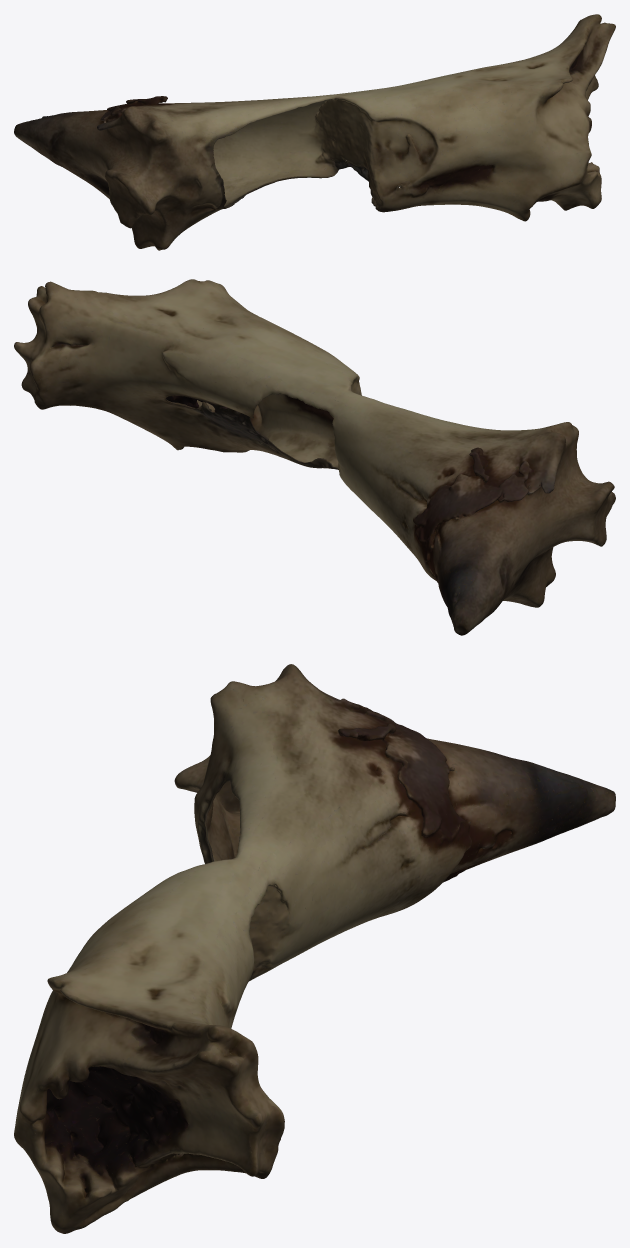
File: bone_stylus.glb
3 renders of one model, top to bottom at view 1: azimuth 30°, elevation 25°; view 2: azimuth 150°, elevation 25°; view 3: azimuth 270°, elevation 25°, orthographic. The views are drawn at different scales.
Visible parts, largest first — view 1: world; view 2: world; view 3: world.
Boxes of the visible parts, left/top/right/bottom form: world: left=14, top=14, right=615, bottom=250; world: left=14, top=279, right=615, bottom=635; world: left=14, top=664, right=615, bottom=1233.
Bounding box in the file's own units: 0.9381 × 0.2739 × 0.5926.
Materials: 1 (1 with a texture image).
